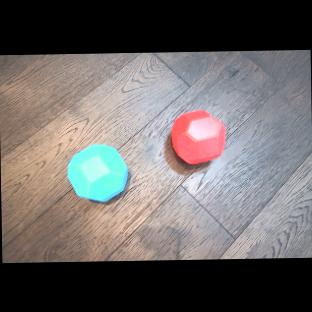V5_BLUE: (66, 143, 129, 203)
V5_RED: (169, 109, 225, 168)
